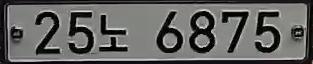2: (31, 9, 64, 56)
5: (65, 7, 97, 56), (253, 9, 284, 53)
6: (153, 8, 188, 57)
7: (217, 8, 252, 55)
8: (186, 9, 219, 54)
노: (96, 11, 132, 55)
